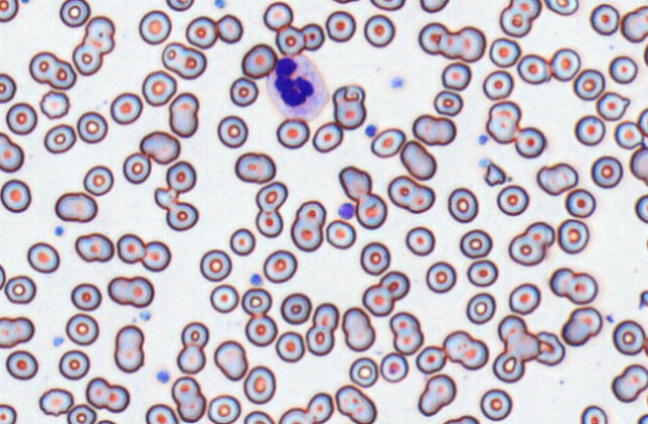GRAN: (264, 50, 334, 123)
PLT: (336, 200, 358, 221), (362, 122, 380, 139), (248, 271, 264, 289), (154, 369, 170, 386), (389, 75, 407, 90), (137, 309, 155, 322), (53, 222, 67, 238), (52, 335, 68, 348), (477, 131, 488, 147), (213, 0, 228, 10)
RBC: (361, 270, 410, 316), (508, 221, 555, 266), (28, 50, 76, 90), (290, 199, 326, 252), (442, 329, 488, 370), (387, 174, 435, 213), (549, 267, 598, 305), (305, 302, 339, 356), (161, 41, 206, 79), (560, 306, 602, 346), (417, 373, 456, 416), (85, 376, 130, 413), (171, 375, 206, 422), (334, 384, 376, 423), (485, 100, 521, 144), (331, 84, 366, 129), (113, 324, 145, 373), (107, 275, 154, 308), (388, 311, 423, 355), (341, 306, 375, 351), (399, 139, 436, 180), (611, 363, 648, 403), (213, 339, 248, 381), (168, 91, 199, 138), (412, 113, 456, 146), (139, 130, 180, 164), (234, 151, 276, 184), (536, 162, 578, 195), (54, 191, 97, 222), (241, 43, 277, 79), (141, 69, 176, 106), (243, 365, 276, 404), (338, 165, 372, 201), (74, 232, 114, 262), (262, 249, 297, 283), (138, 9, 171, 45), (612, 319, 645, 355), (556, 218, 589, 254), (355, 192, 387, 229), (109, 91, 143, 125), (185, 15, 218, 49), (65, 312, 99, 345), (0, 315, 34, 348), (199, 248, 232, 282), (275, 117, 310, 149), (447, 187, 478, 223), (244, 313, 277, 346), (479, 388, 512, 421), (572, 68, 605, 101), (590, 155, 623, 188), (549, 47, 581, 81), (5, 101, 37, 135), (26, 241, 60, 273), (370, 127, 405, 158), (516, 53, 551, 84), (0, 178, 31, 213), (535, 330, 565, 366), (363, 14, 395, 47), (508, 282, 540, 315), (496, 184, 529, 216), (76, 110, 108, 143), (217, 114, 248, 148), (359, 241, 390, 275), (492, 351, 524, 383), (311, 121, 343, 153), (514, 126, 546, 158), (165, 200, 198, 231), (165, 160, 196, 193), (5, 349, 38, 380), (465, 291, 496, 324), (425, 260, 456, 293), (72, 42, 102, 76), (38, 387, 73, 416), (595, 91, 630, 120), (620, 5, 647, 42), (325, 10, 356, 42), (280, 292, 311, 324), (58, 349, 90, 380), (589, 3, 620, 35), (83, 164, 114, 196), (564, 187, 596, 218), (574, 114, 605, 146), (43, 123, 76, 153), (459, 228, 492, 258), (207, 394, 241, 423), (482, 69, 513, 100), (418, 22, 448, 54), (141, 240, 171, 272), (0, 132, 24, 172), (488, 37, 520, 67), (275, 330, 305, 362), (4, 274, 36, 304), (122, 151, 151, 184), (262, 1, 293, 31), (325, 219, 356, 249), (348, 356, 378, 387), (405, 225, 435, 256), (275, 24, 304, 56), (379, 351, 408, 383), (209, 283, 239, 313), (441, 61, 471, 91), (39, 89, 69, 119), (241, 287, 272, 316), (415, 345, 446, 374), (229, 76, 258, 107), (70, 282, 101, 311), (466, 259, 498, 287), (176, 344, 205, 374), (116, 233, 145, 263), (613, 120, 643, 149), (608, 55, 637, 84), (306, 392, 333, 423), (59, 0, 90, 27), (255, 209, 283, 238), (216, 13, 243, 43), (433, 89, 463, 116), (229, 227, 255, 256), (629, 146, 647, 185), (300, 22, 324, 51), (145, 403, 178, 423), (510, 0, 541, 21), (278, 406, 314, 423), (66, 403, 96, 423), (543, 0, 579, 16), (579, 405, 607, 423), (0, 72, 16, 103), (243, 410, 275, 423), (369, 0, 405, 11), (0, 0, 18, 22), (634, 193, 647, 223), (419, 0, 449, 13), (636, 107, 648, 137), (442, 414, 479, 423), (0, 403, 16, 423), (165, 0, 194, 11), (638, 289, 647, 309), (0, 263, 6, 290), (642, 334, 648, 358), (95, 418, 117, 424), (643, 42, 648, 67), (330, 0, 361, 4), (636, 413, 647, 423), (645, 235, 648, 253)
Schistocyte: (483, 162, 509, 187)
